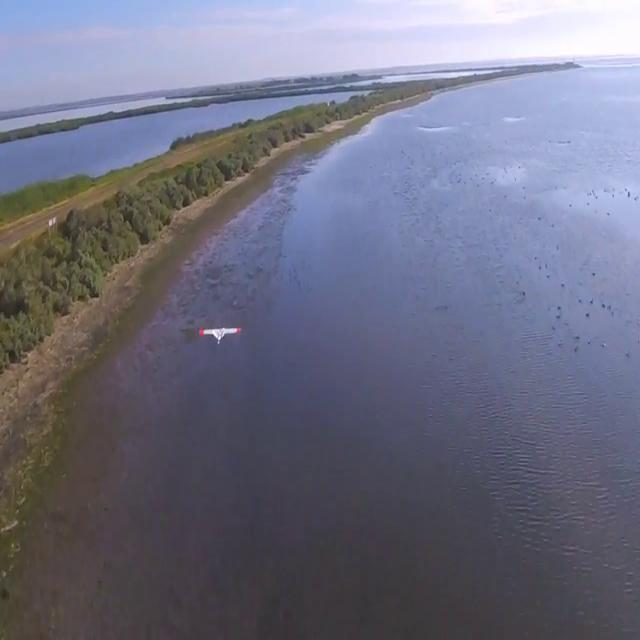iha: (198, 320, 242, 346)
